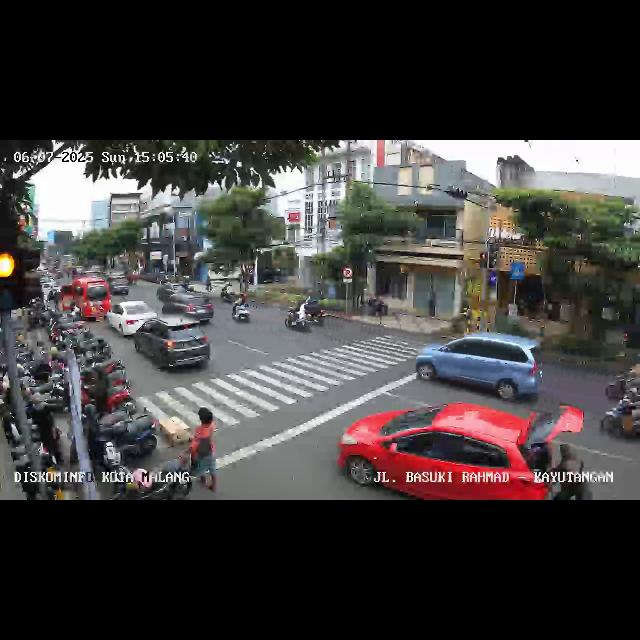car: (337, 402, 555, 500), (417, 330, 545, 406), (132, 312, 216, 376), (54, 277, 110, 323), (158, 287, 216, 325), (106, 300, 158, 338), (108, 274, 132, 294)
motorcycle: (598, 385, 640, 449), (604, 347, 640, 403), (284, 293, 324, 331), (232, 295, 252, 325), (221, 280, 233, 302)
person: (186, 406, 220, 494)
